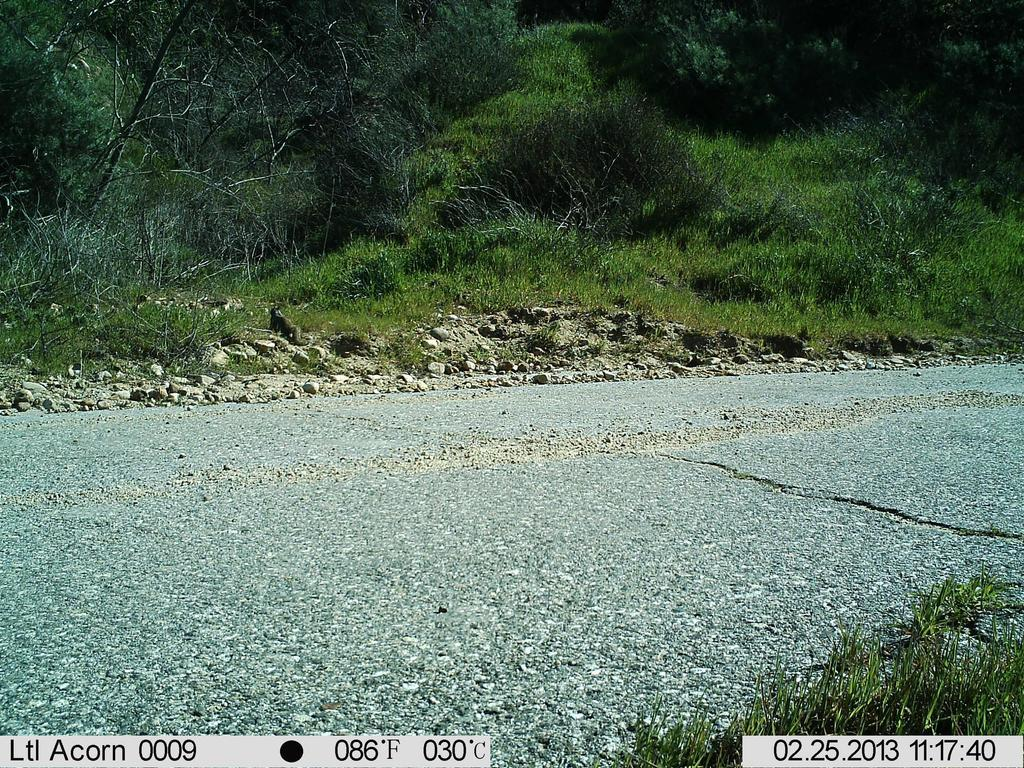squirrel: (269, 306, 313, 348)
